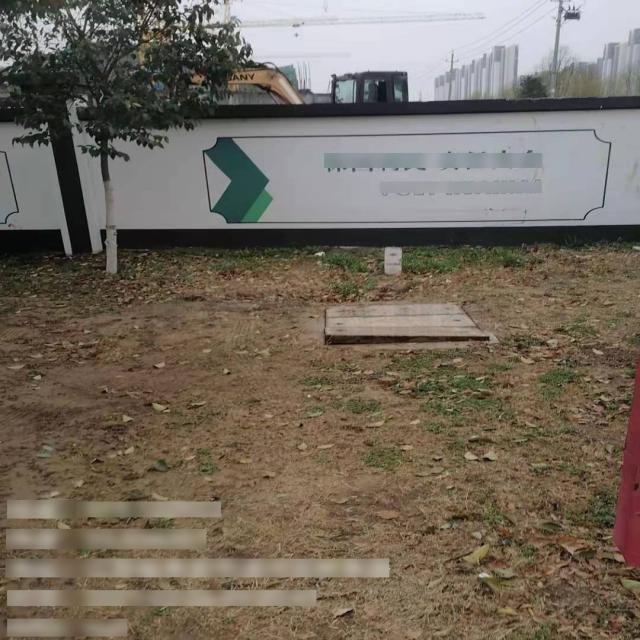Faulty: (318, 300, 497, 350)
